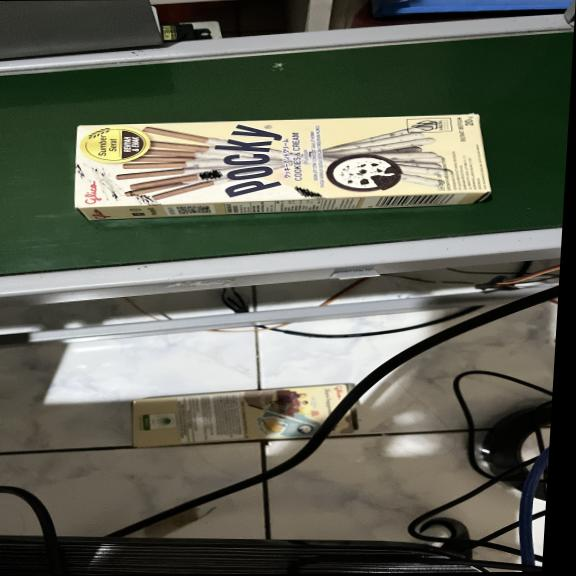Kertas: (70, 110, 501, 207)
